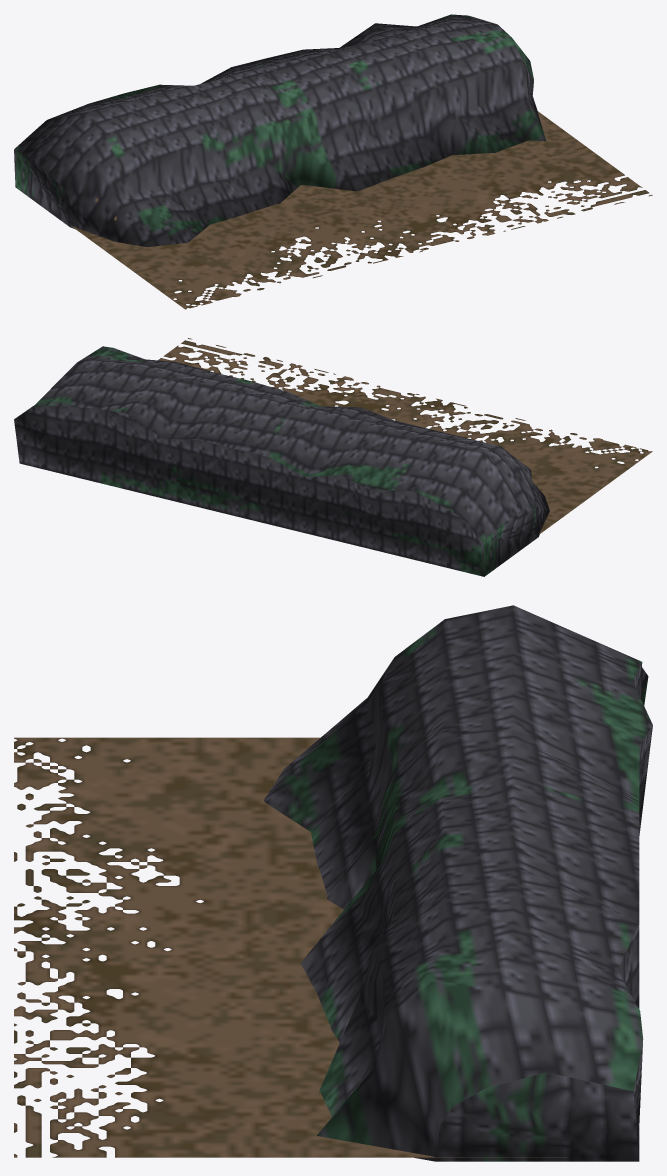
Rendered from SpaceStart.fbx.
3 views of the same model, one above another, from view 1: azimuth 30°, elevation 25°; view 2: azimuth 150°, elevation 25°; view 3: azimuth 270°, elevation 25° (orthographic). The views are drawn at different scales.
Parts seen in each view (by area): view 1: SpaceStartTerrain, SpaceStartGround; view 2: SpaceStartTerrain, SpaceStartGround; view 3: SpaceStartTerrain, SpaceStartGround.
Boxes of the visible parts, x1,y1,x2,y2 form: SpaceStartTerrain: (14, 14, 546, 247); SpaceStartGround: (71, 111, 652, 309); SpaceStartTerrain: (14, 346, 549, 576); SpaceStartGround: (158, 338, 652, 534); SpaceStartTerrain: (264, 605, 652, 1161); SpaceStartGround: (14, 737, 567, 1157).
Bounding box in the file's own units: 2.23 × 0.404 × 1.39.
